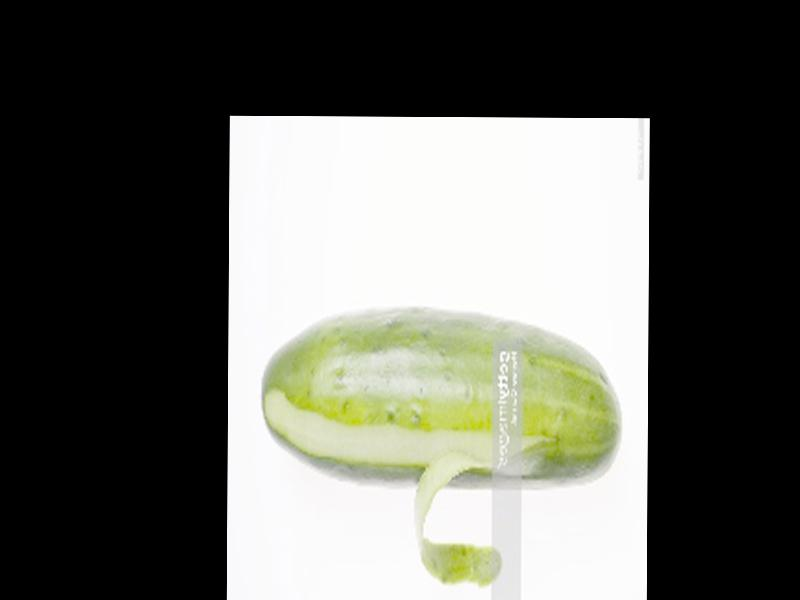Cucumber: (259, 308, 622, 493)
